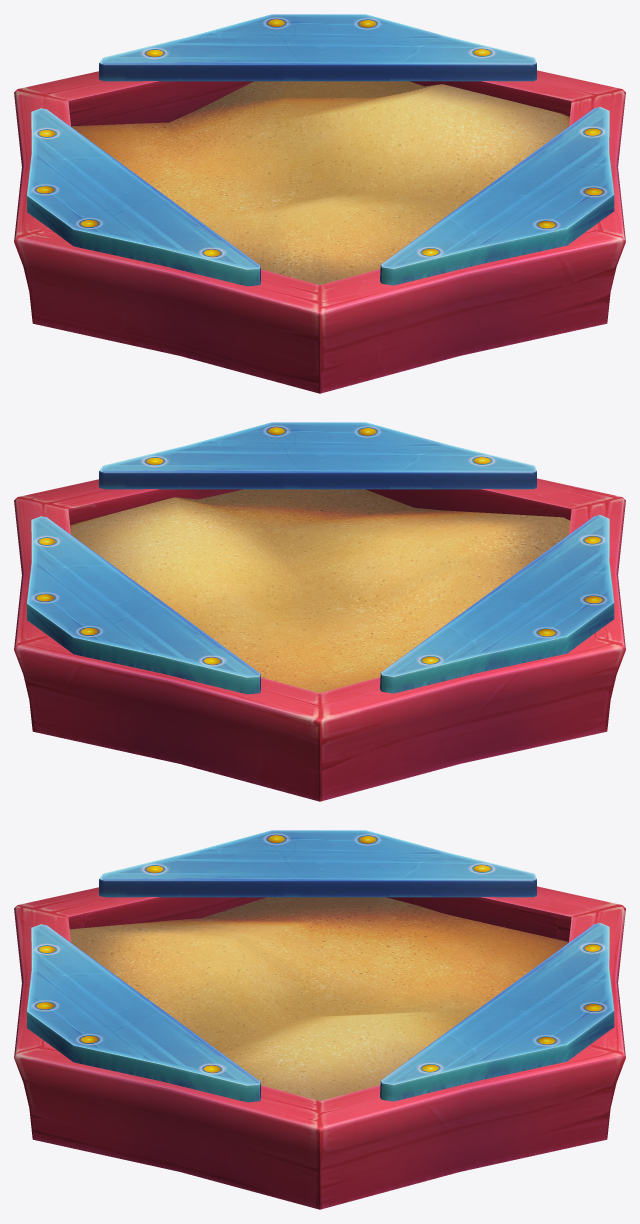
Rendered from SE_Sandbox_01.fbx.
The picture shows the model from 3 angles, top to bottom: view 1: azimuth 30°, elevation 25°; view 2: azimuth 150°, elevation 25°; view 3: azimuth 270°, elevation 25°; orthographic projection.
Parts seen in each view (by area): view 1: SE_Sandbox_01; view 2: SE_Sandbox_01; view 3: SE_Sandbox_01.
Boxes of the visible parts, x1,y1,x2,y2 form: SE_Sandbox_01: [14, 14, 625, 393]; SE_Sandbox_01: [14, 422, 625, 801]; SE_Sandbox_01: [14, 830, 625, 1209].
Size of the model in its own units: 9.89 by 1.67 by 8.57.
